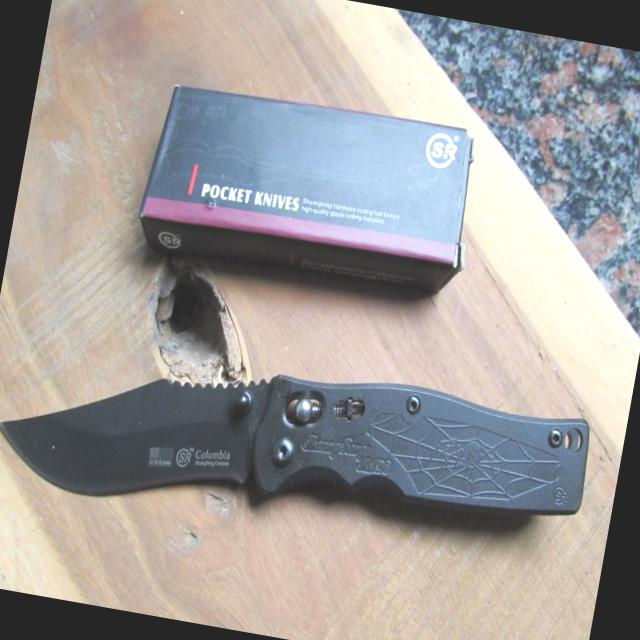knife: (0, 301, 608, 598)
